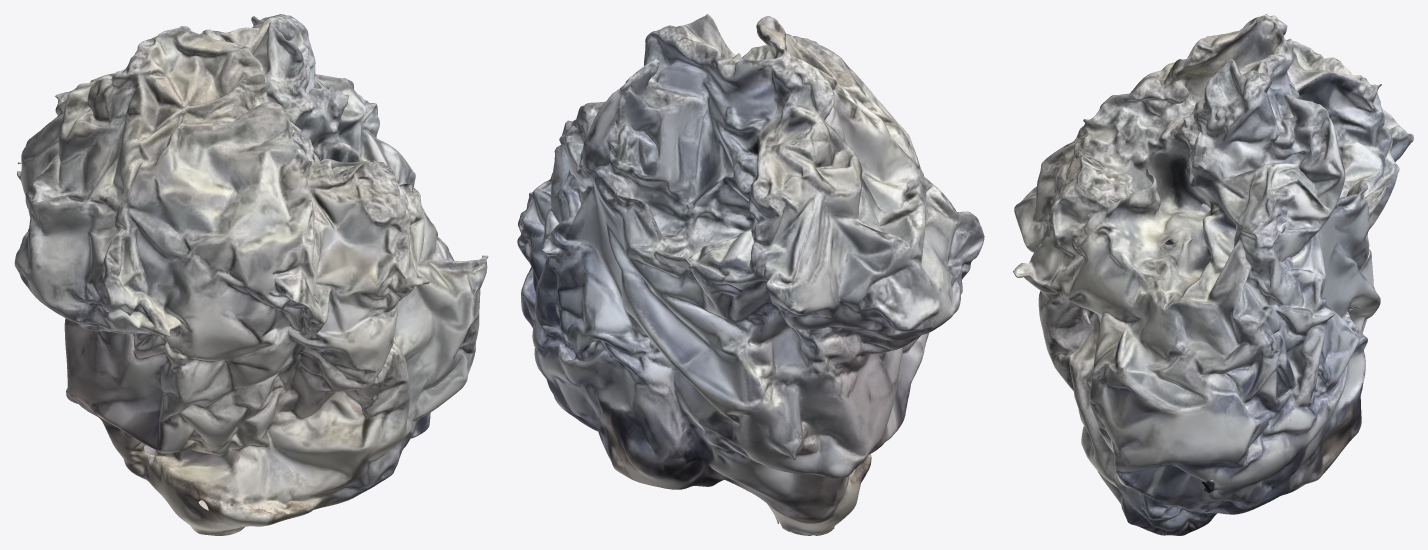
File: Aluminium.glb
The picture shows the model from 3 angles, left to right: view 1: azimuth 30°, elevation 25°; view 2: azimuth 150°, elevation 25°; view 3: azimuth 270°, elevation 25°; orthographic projection. The views are drawn at different scales.
Parts seen in each view (by area): view 1: world; view 2: world; view 3: world.
Boxes of the visible parts, box(x1,y1,x2,y2) form: world: box(14, 14, 488, 535); world: box(517, 14, 984, 535); world: box(1013, 14, 1413, 535).
Size of the model in its own units: 0.8815 by 1 by 0.7685.
1 material, 1 textured.
